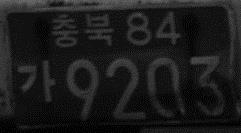0: (147, 55, 185, 121)
2: (104, 56, 147, 123)
3: (188, 54, 225, 117)
4: (155, 11, 180, 46)
8: (125, 11, 151, 46)
9: (65, 58, 100, 121)
가: (15, 58, 56, 104)
충북_O: (49, 11, 114, 48)
